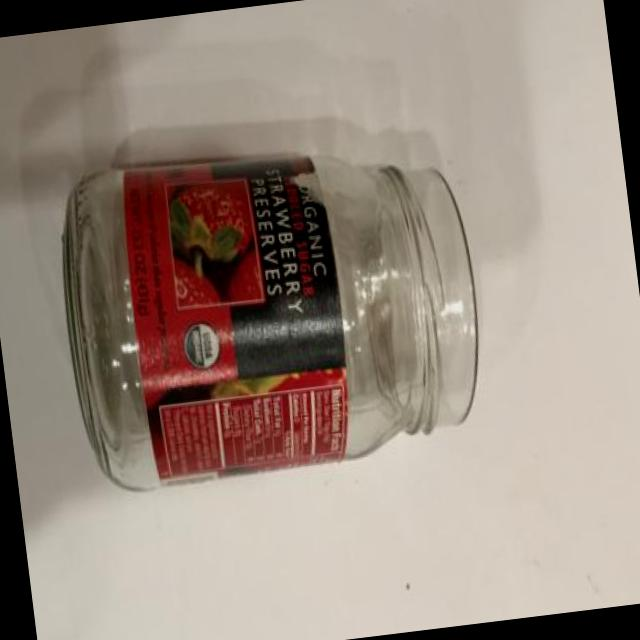chai_thuy_tinh: (314, 158, 478, 458), (60, 170, 159, 491)
